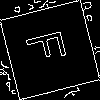F: (24, 25, 76, 66)
